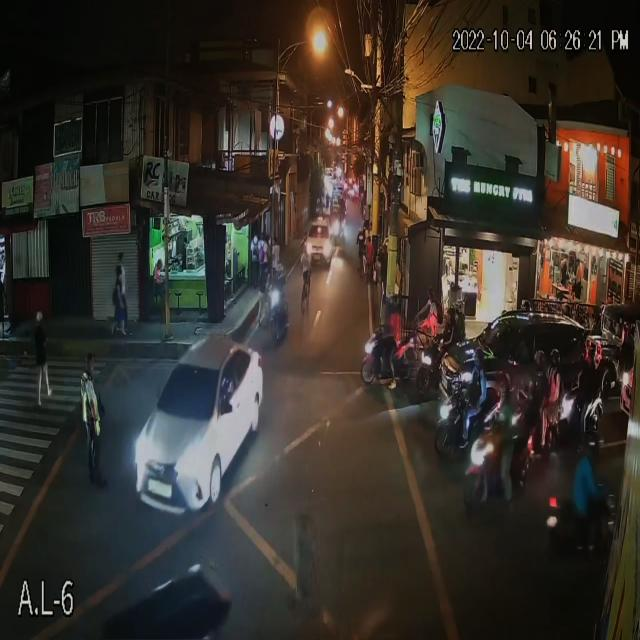Full-Faced: (495, 365, 511, 400), (469, 344, 487, 371), (383, 293, 398, 322), (443, 302, 456, 330), (453, 296, 467, 322), (551, 375, 566, 398), (578, 348, 592, 372), (519, 300, 531, 316)
Half-Faced: (531, 348, 547, 376), (545, 346, 561, 374)
